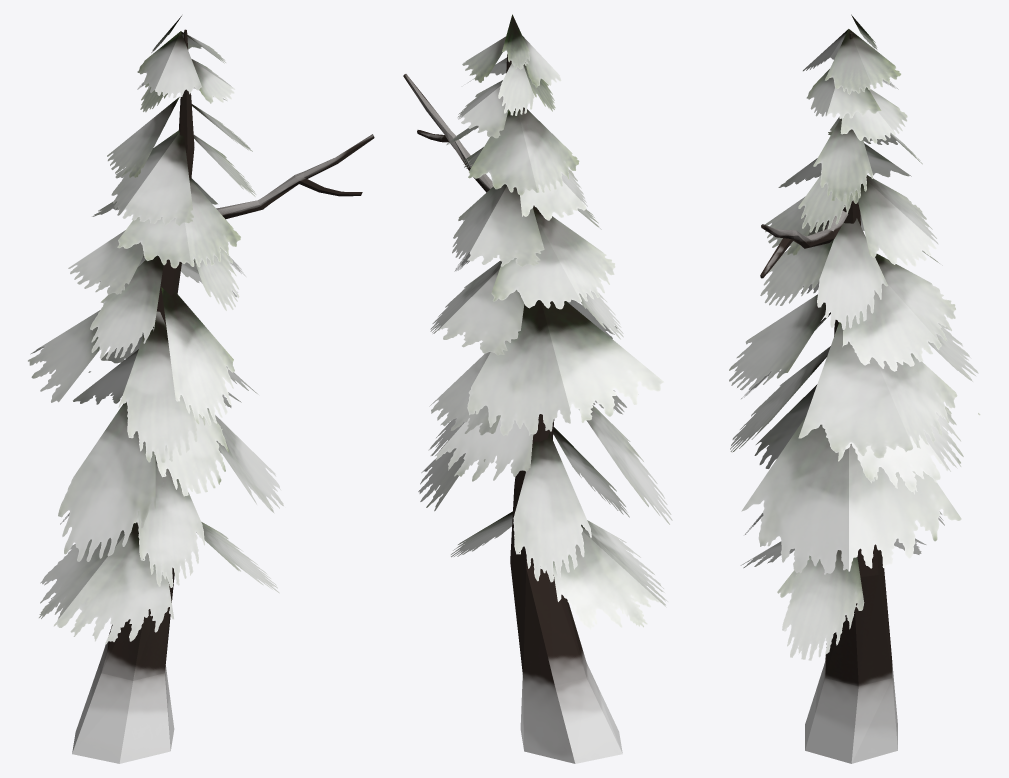
File: Tree2.FBX
3 views of the same model, side by side, from view 1: azimuth 30°, elevation 25°; view 2: azimuth 150°, elevation 25°; view 3: azimuth 270°, elevation 25° (orthographic). The views are drawn at different scales.
Parts seen in each view (by area): view 1: Object001; view 2: Object001; view 3: Object001.
Boxes of the visible parts, x1=… form: Object001: x1=28, y1=16, x2=374, y2=763; Object001: x1=403, y1=14, x2=672, y2=763; Object001: x1=729, y1=14, x2=980, y2=763.
Bounding box in the file's own units: 162 × 355 × 123.
